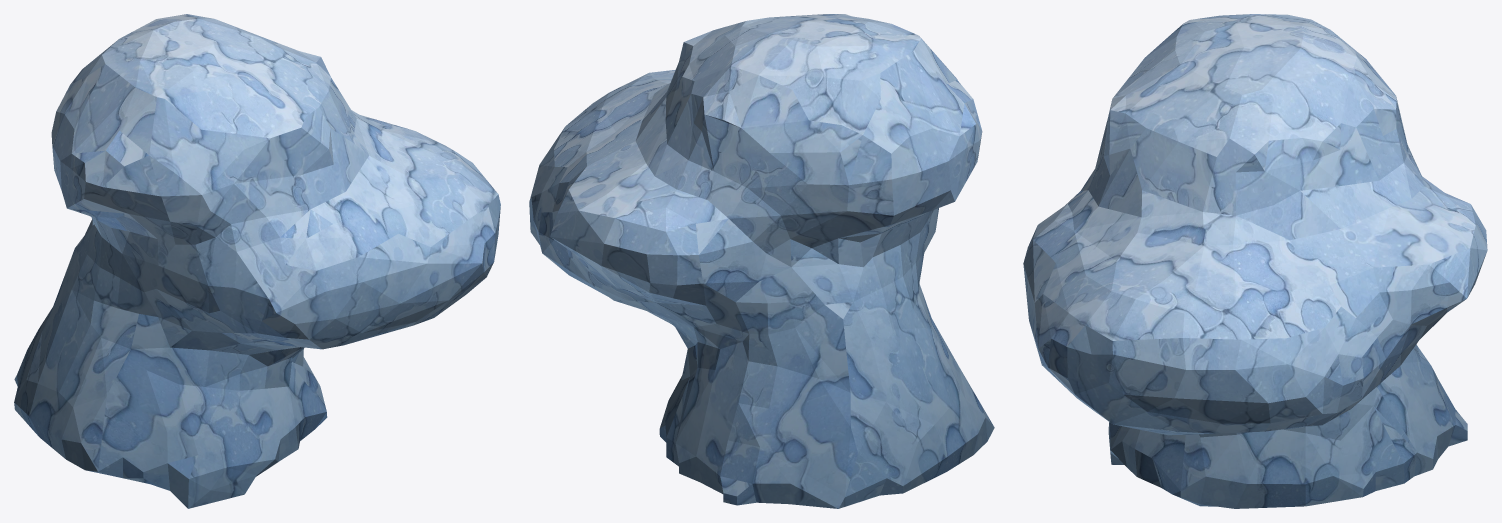
Rendered from ice_berg_small.glb.
3 views of the same model, side by side, from view 1: azimuth 30°, elevation 25°; view 2: azimuth 150°, elevation 25°; view 3: azimuth 270°, elevation 25° (orthographic). The views are drawn at different scales.
Visible parts, largest first — view 1: ice_berg_small; view 2: ice_berg_small; view 3: ice_berg_small.
Boxes of the visible parts, bbox=[...] form: ice_berg_small: bbox=[14, 14, 500, 508]; ice_berg_small: bbox=[529, 14, 994, 508]; ice_berg_small: bbox=[1023, 14, 1487, 508].
Bounding box in the file's own units: 5.37 × 5.15 × 4.93.
1 material, 1 textured.
